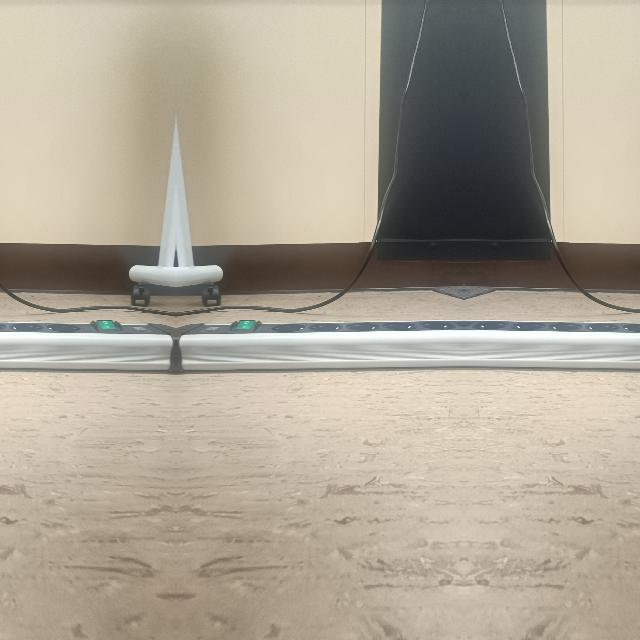obstacle: (178, 319, 464, 371), (463, 319, 640, 371), (0, 319, 172, 371), (175, 232, 223, 304), (127, 232, 175, 304)
